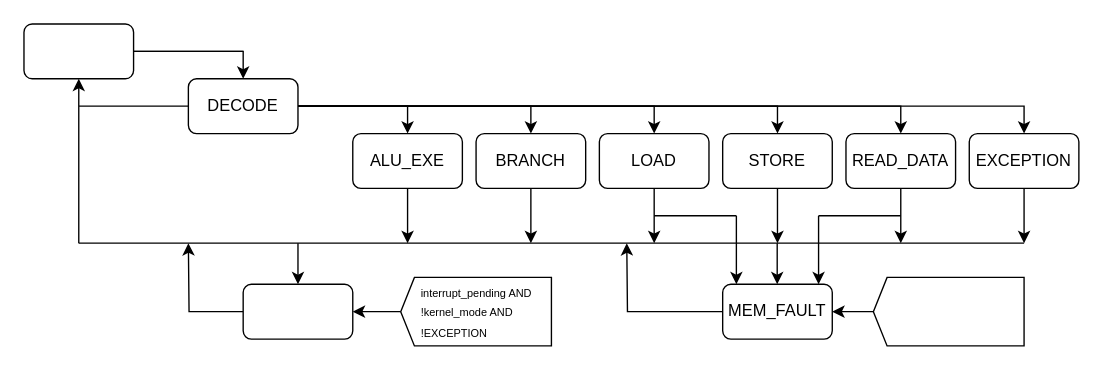
Image size: 1103x385. Some labels were removed from this diagram. The box of each missing label's shape, as (x1, y1, x2, y2) in pixels:
FETCH: (23, 23, 134, 79)
memViolation: (872, 276, 1024, 346)
TIMER_INTERRUPT: (242, 283, 353, 339)
